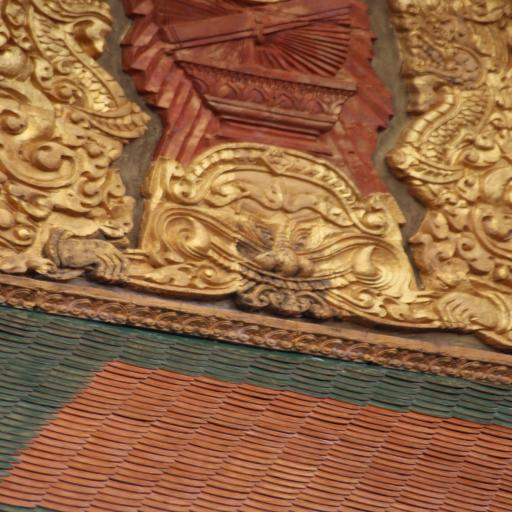la: (0, 147, 138, 237), (407, 202, 512, 295)
ran: (398, 26, 512, 200), (24, 0, 146, 141)
